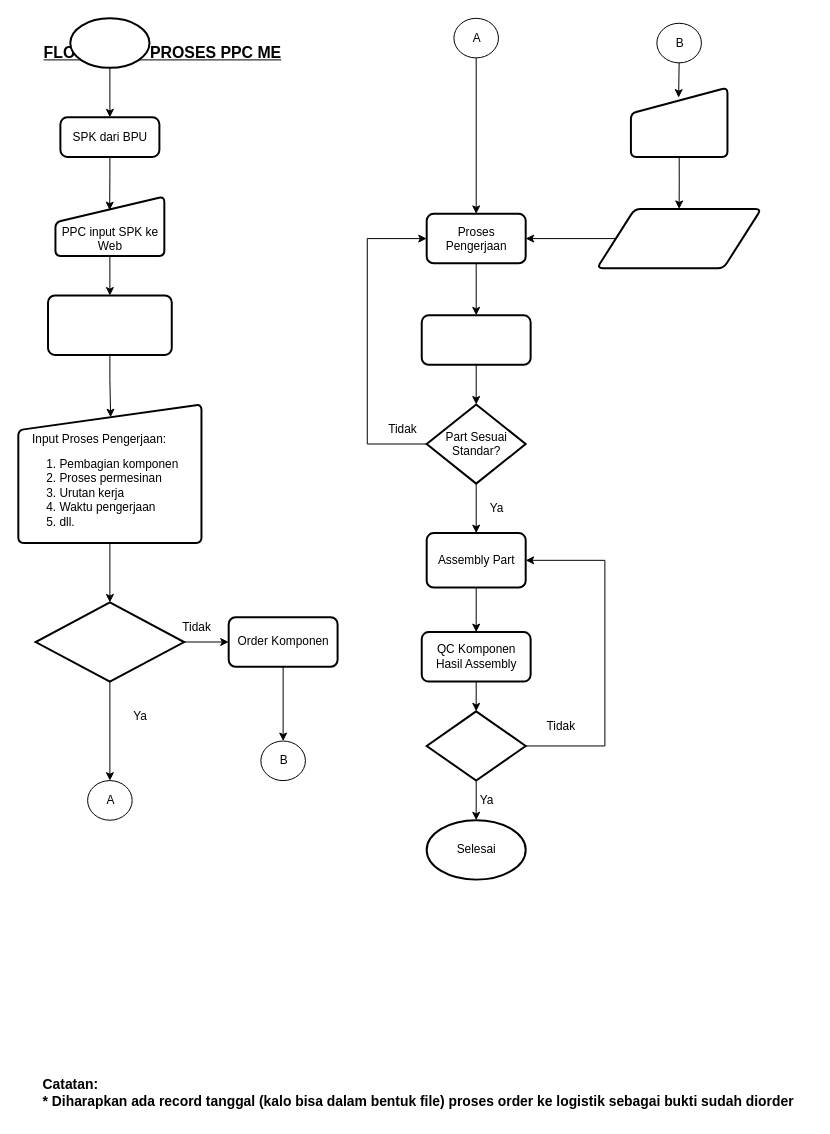
This 830x1134 diagram has some shape labels left out. The box of each missing label's shape, as (x1, y1, x2, y2) in pixels:
Isi form logistik *: (629, 86, 728, 157)
Komponen Sesuai Standar?: (425, 710, 526, 781)
Material/komponen tersedia: (595, 207, 762, 269)
Material/komponen tersedia?: (34, 601, 185, 682)
Perencanaan Proses Pengerjaan (PPC): (47, 294, 172, 355)
QC Part Hasil Proses Permesinan: (420, 314, 531, 365)
Start: (69, 17, 150, 68)
